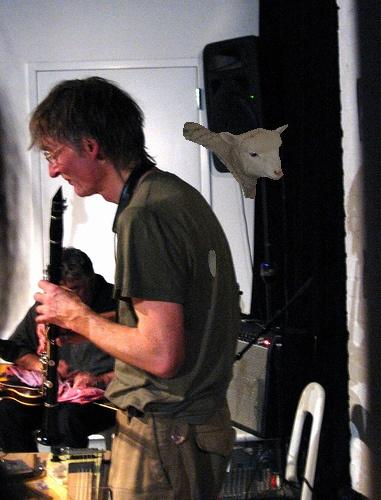tampered: (184, 123, 288, 277)
